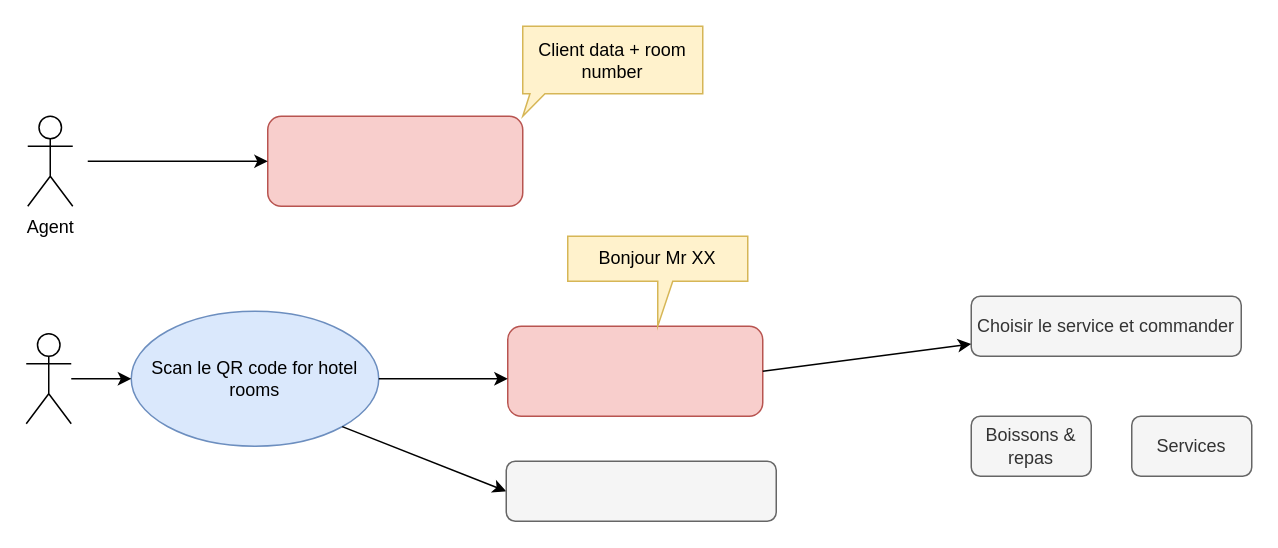
Some shapes in this 1278 by 548 pixel diagram are drawn without their labels. The shapes that lost their labels are listed below. From the top down, each one's centre as x and y in pixels, then its label:
At point (394, 160): "Inserer les donnes lors de check In".
At point (48, 378): "Client".
At point (634, 370): "valider avec la date de naissance".
At point (640, 490): "connect with other clients".
